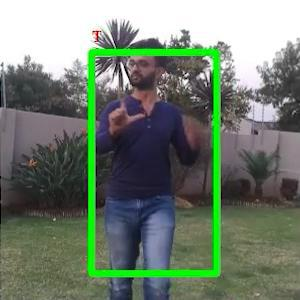land_hand: (105, 83, 148, 139)
